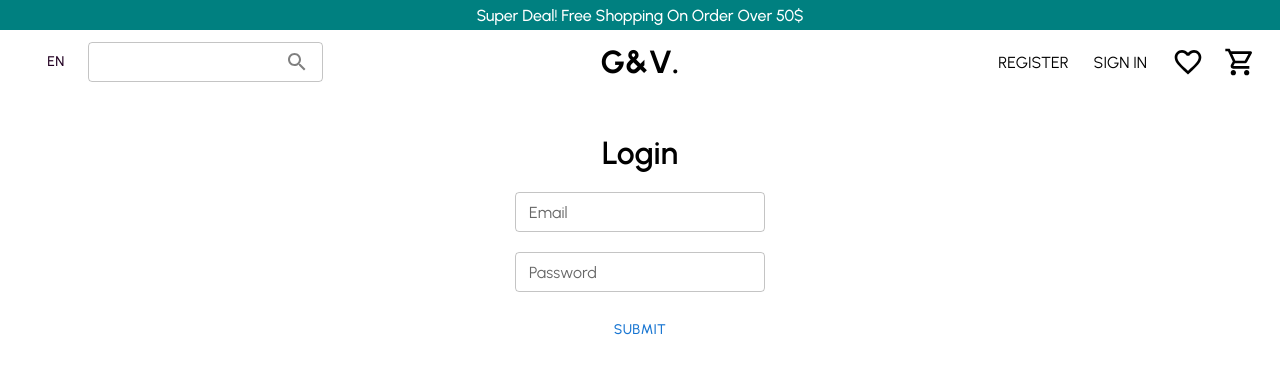
Schemas validators should display error messages for email and password fields › email schema error
In the element with test id "email-input": x=640, y=212 [515,192,765,232], type "test@gmail"
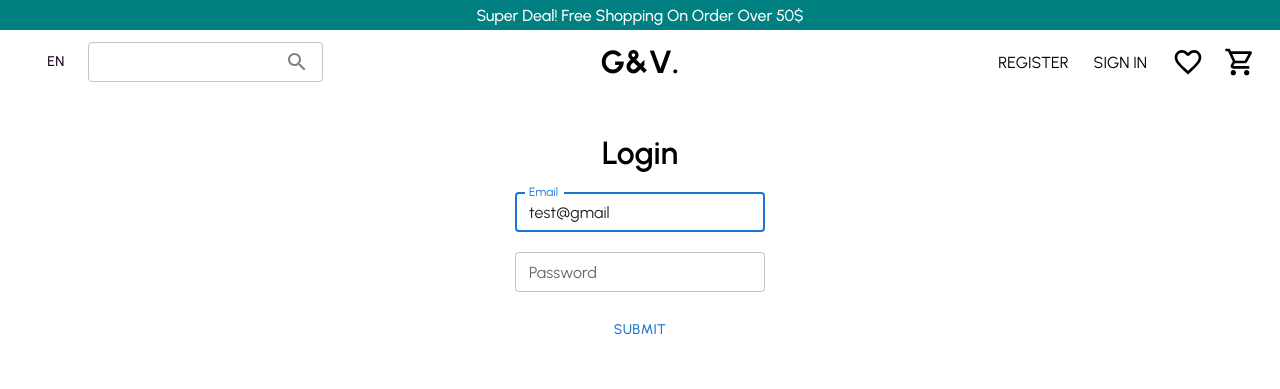
In the element with test id "password-input": x=640, y=272 [515,252,765,292], type "lacontraseñasegura"
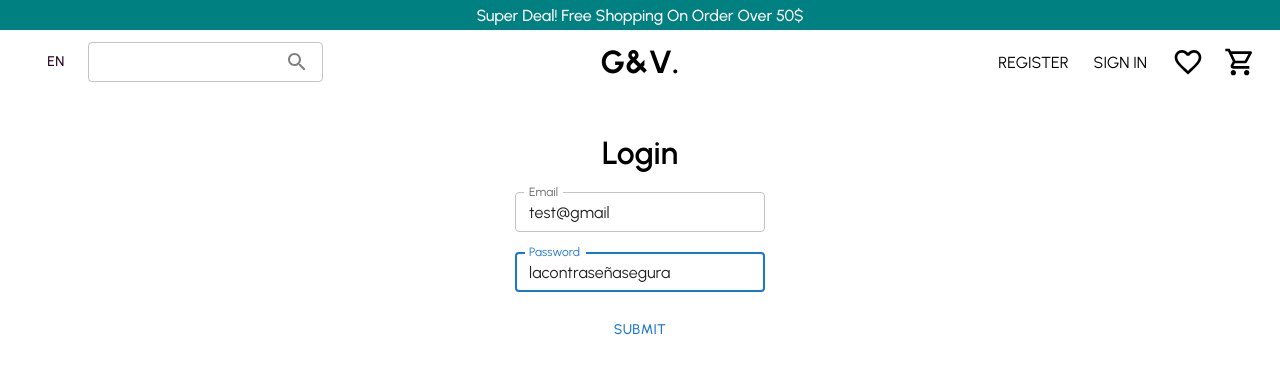
Click the button with id "send-login": x=641, y=331 [606,312,675,349]
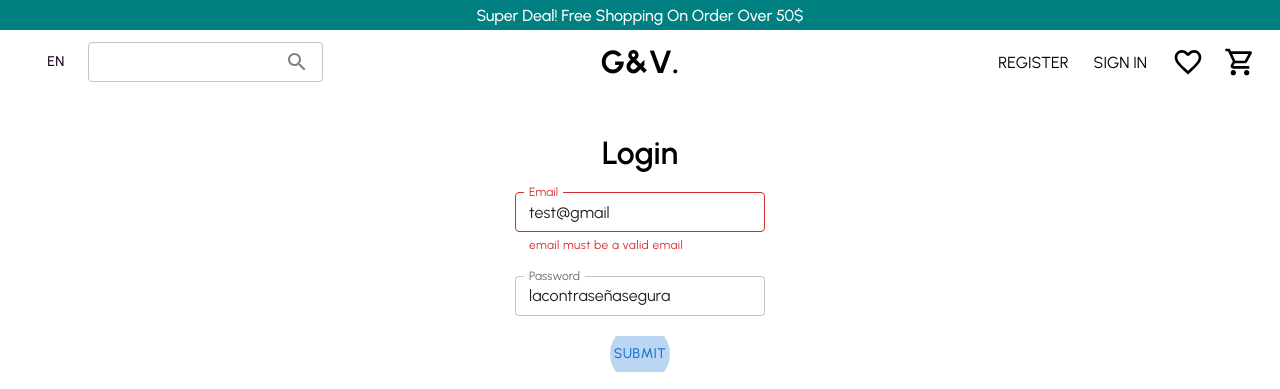
Now the text "email must be a valid email" is shown, box [529,238,683,252]
